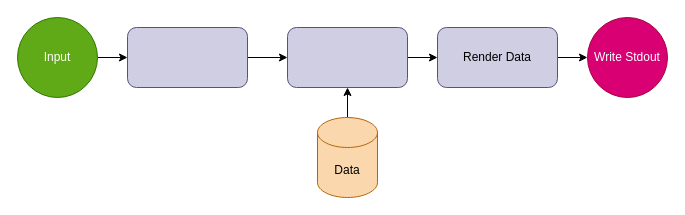
This 685x215 diagram has some shape labels left out. The centre of each missing label's shape, as x and y in pixels:
Parse Units: the point at 187,57
Read Data: the point at 347,57
